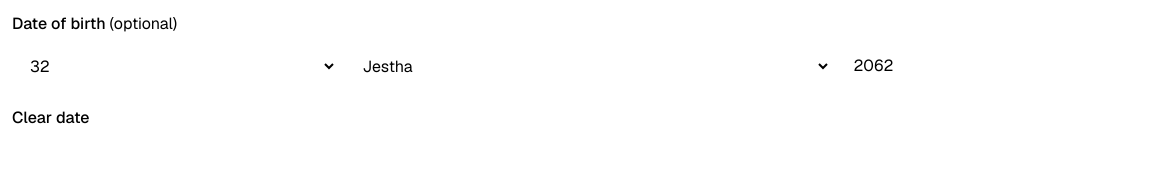
DateField in BS › is required unless optional, and an optional date can be cleared
What coordinates should you click on to do the following:
click the button "Clear date"
I would click on:
 (51, 118)
Its box is [12, 96, 89, 140].
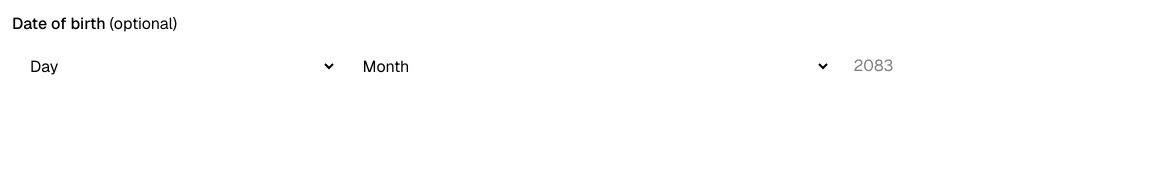
Expected: the dropdown named "Month" shows "Month", [345, 44, 832, 88]
Expected: the field named "Year" is empty, [839, 44, 1164, 88]
Expected: the button "Clear date" is gone
